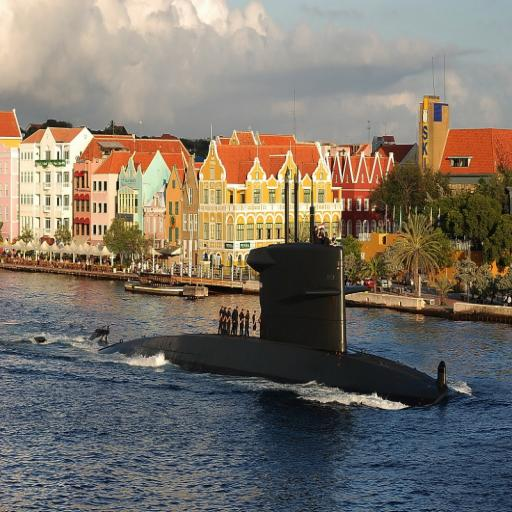submarine: (97, 164, 450, 405)
